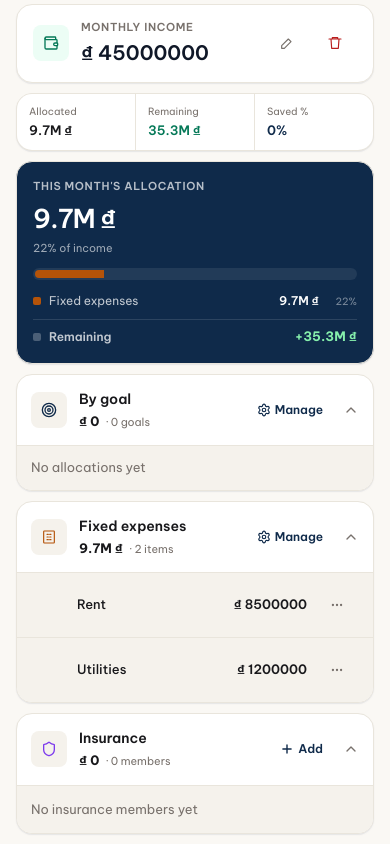
Test case: MobilePlanningView — collapsible sections › toggles fixed expenses section on header click
expect the text "Rent" is shown: met, box 77,596 -> 106,612
Click the header to collapse
Click the button with test id "section-fixed-expenses". click: {"x": 134, "y": 537}
box: 31,516 -> 237,558
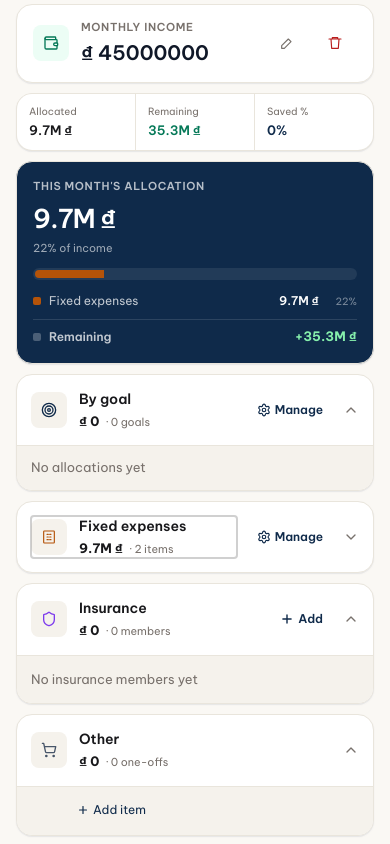
expect the text "Rent" is gone: met
